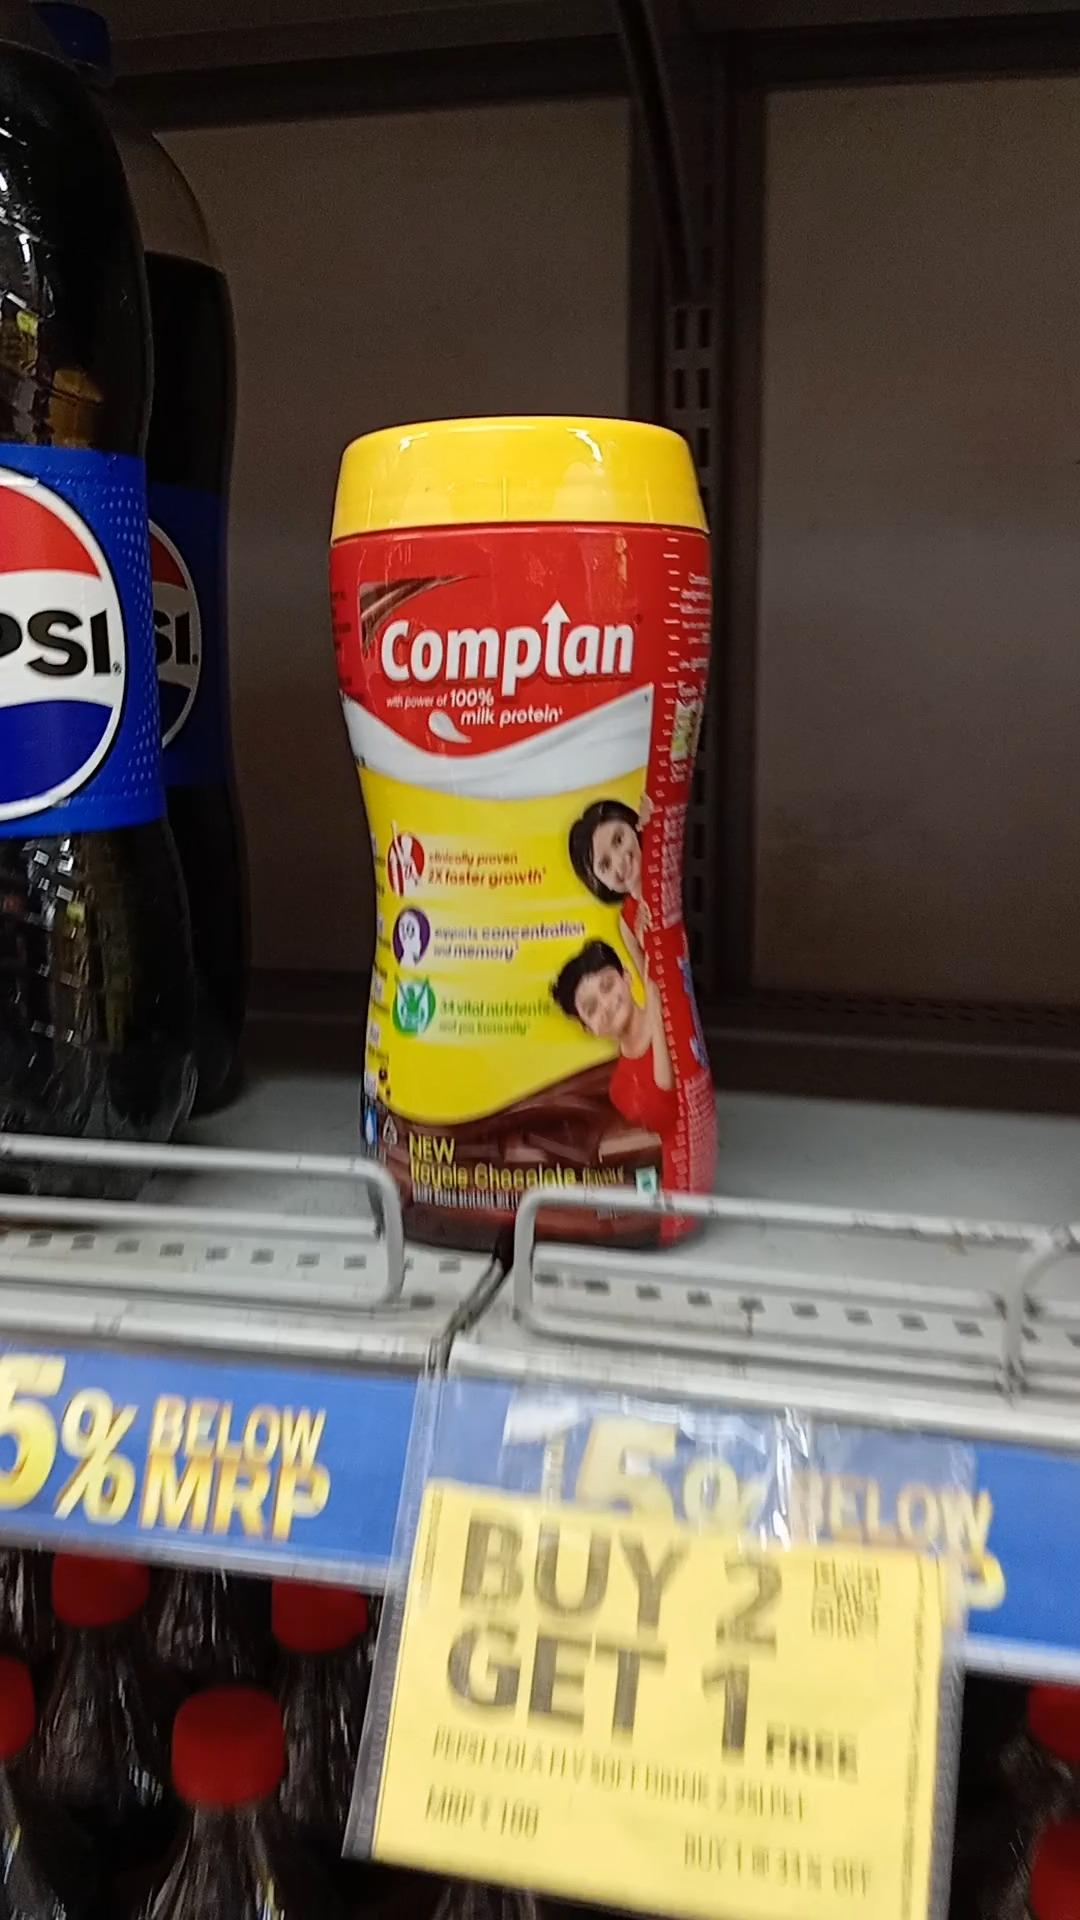COMPLAN_CHOCOLATE_500_GMS_JAR: (336, 400, 703, 1255)
